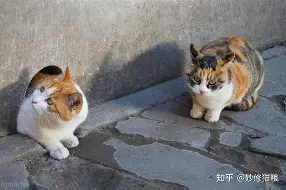三花猫: (188, 36, 263, 121)
